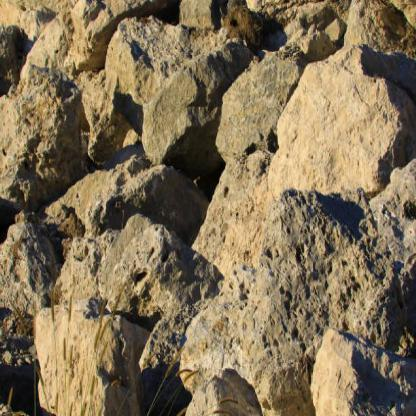Sedimentary_Limestone: (178, 193, 412, 415), (100, 10, 264, 179), (1, 57, 94, 202), (29, 298, 137, 415), (96, 216, 211, 321), (310, 316, 416, 415), (4, 217, 59, 324), (184, 364, 266, 415)
